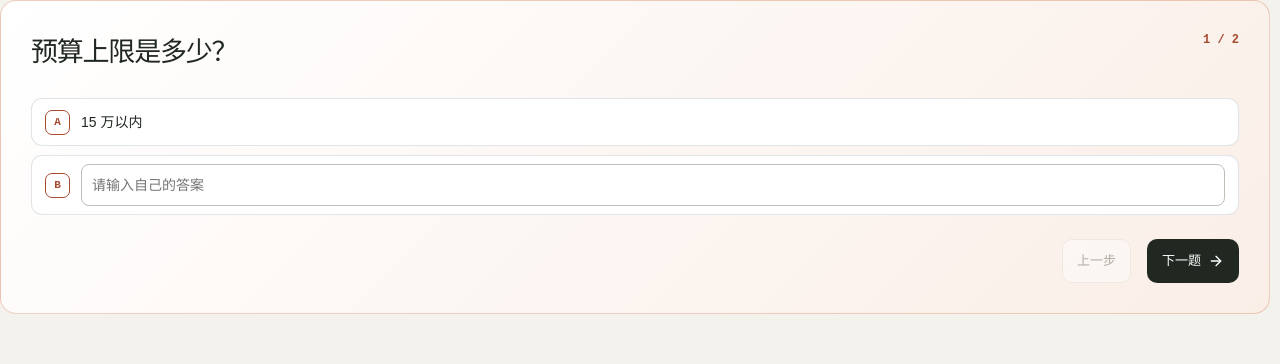
it: AgentQuestionCard › blocks the next question until a required answer is present
Click the button with aria-label "下一题" at (1193,261), box [1147,239,1239,283]
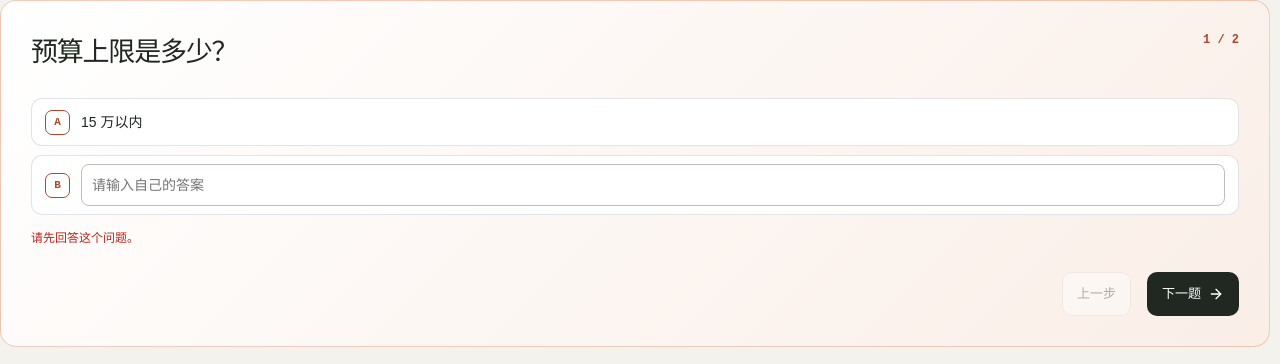
Check: the text "预算上限是多少？" is shown, box [31,31,237,74]
Check: the text "请先回答这个问题" is shown, box [31,231,139,245]
